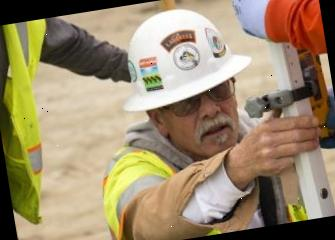helmet: (108, 0, 256, 114)
wear: (0, 17, 78, 230), (96, 142, 204, 240)
